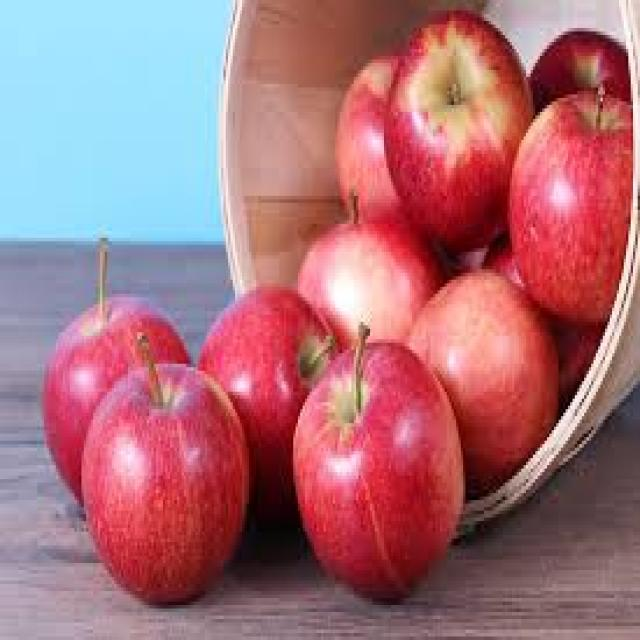apple: (83, 352, 253, 609)
